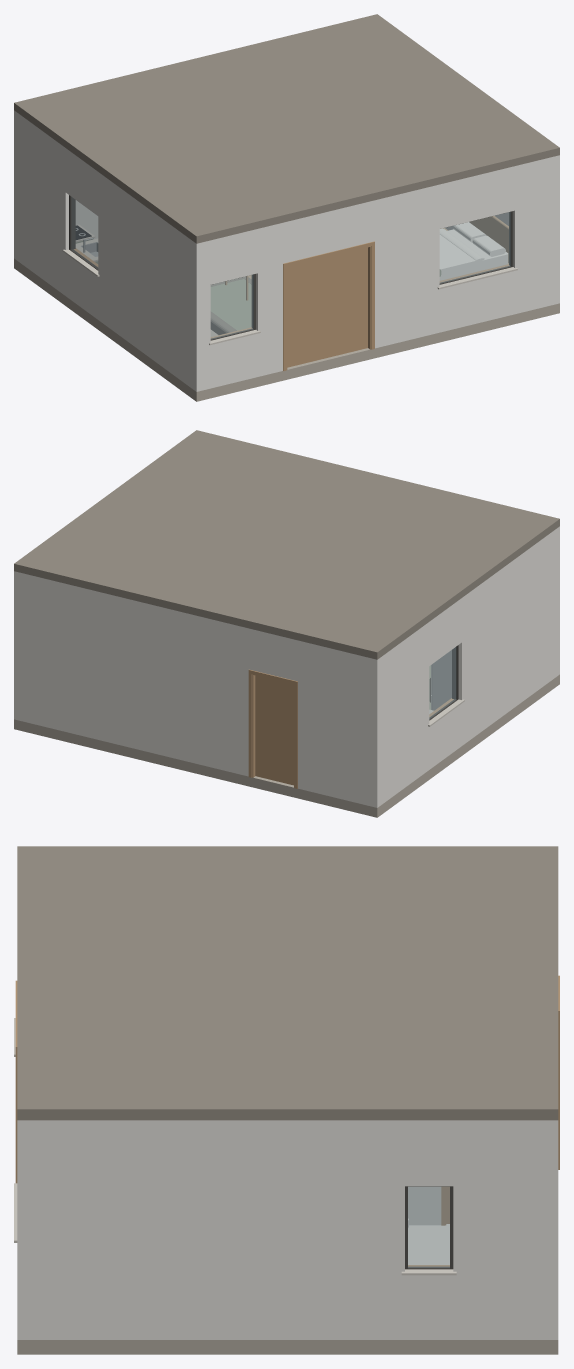
Rendered from laneway-house.glb.
The picture shows the model from 3 angles, top to bottom: view 1: azimuth 30°, elevation 25°; view 2: azimuth 150°, elevation 25°; view 3: azimuth 270°, elevation 25°; orthographic projection. The views are drawn at different scales.
Parts seen in each view (by area): view 1: roof:roof, wall:w_garden, wall:w_west, door:d_garden, slab:slab, window:window_3:glass, furniture:bed_8, window:window_2:glass, furniture:rug_5, wall:w_east, wall:w_lane, window:window_1:glass (+3 smaller); view 2: roof:roof, wall:w_lane, wall:w_west, slab:slab, door:d_front, window:window_1:glass, door:d_front:casing, furniture:fridge_1, wall:w_garden, door:d_front:lining; view 3: roof:roof, wall:w_east, slab:slab, wall:w_lane, window:window_4:glass, floor:r_bath, wall:w_hall, window:window_4:frame.
Part boxes in pixels (bbox=[...]): roof:roof: bbox=[14, 14, 559, 243]; wall:w_garden: bbox=[191, 157, 550, 391]; wall:w_west: bbox=[19, 114, 190, 387]; door:d_garden: bbox=[287, 247, 367, 367]; slab:slab: bbox=[14, 258, 559, 401]; window:window_3:glass: bbox=[440, 212, 510, 283]; furniture:bed_8: bbox=[439, 216, 508, 280]; window:window_2:glass: bbox=[211, 275, 253, 339]; furniture:rug_5: bbox=[210, 276, 251, 330]; wall:w_east: bbox=[445, 155, 559, 305]; wall:w_lane: bbox=[14, 110, 98, 261]; window:window_1:glass: bbox=[71, 197, 97, 268]; roof:roof: bbox=[14, 430, 559, 659]; wall:w_lane: bbox=[14, 571, 382, 807]; wall:w_west: bbox=[383, 530, 554, 803]; slab:slab: bbox=[14, 674, 559, 817]; door:d_front: bbox=[255, 675, 293, 785]; window:window_1:glass: bbox=[429, 647, 455, 718]; door:d_front:casing: bbox=[248, 669, 297, 788]; furniture:fridge_1: bbox=[431, 650, 451, 710]; wall:w_garden: bbox=[554, 526, 559, 677]; door:d_front:lining: bbox=[252, 674, 294, 787]; roof:roof: bbox=[17, 846, 558, 1120]; wall:w_east: bbox=[17, 1120, 542, 1339]; slab:slab: bbox=[17, 1340, 558, 1354]; wall:w_lane: bbox=[542, 1120, 558, 1339]; window:window_4:glass: bbox=[408, 1187, 449, 1267]; floor:r_bath: bbox=[408, 1224, 449, 1264]; wall:w_hall: bbox=[408, 1186, 441, 1225]; window:window_4:frame: bbox=[405, 1186, 453, 1269].
Bounding box in the file's own units: 7.78 × 3.35 × 6.76.
